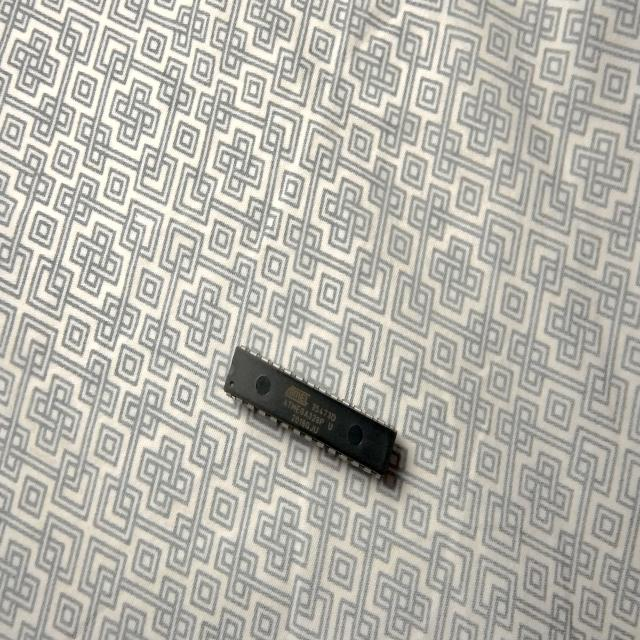atmega: (222, 344, 402, 486)
